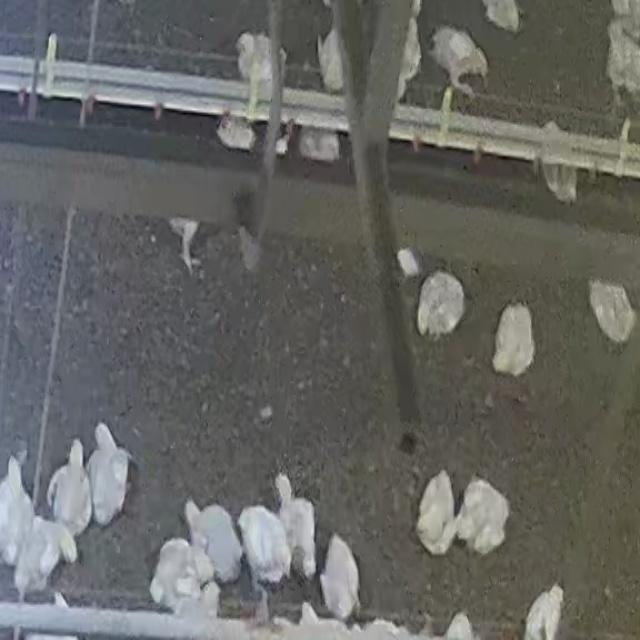chicken: (85, 424, 132, 525), (237, 504, 291, 588), (189, 501, 243, 585), (47, 439, 93, 535), (16, 521, 78, 592), (429, 26, 489, 99), (276, 474, 318, 578), (459, 476, 510, 553), (234, 33, 287, 104), (148, 537, 198, 609), (320, 533, 361, 620), (0, 458, 33, 562), (537, 126, 580, 204), (413, 272, 466, 335), (604, 12, 640, 104), (416, 470, 455, 553), (588, 277, 637, 343), (494, 304, 535, 375), (523, 584, 563, 640), (316, 26, 346, 93), (215, 113, 257, 153), (298, 129, 340, 164), (481, 0, 521, 33)
